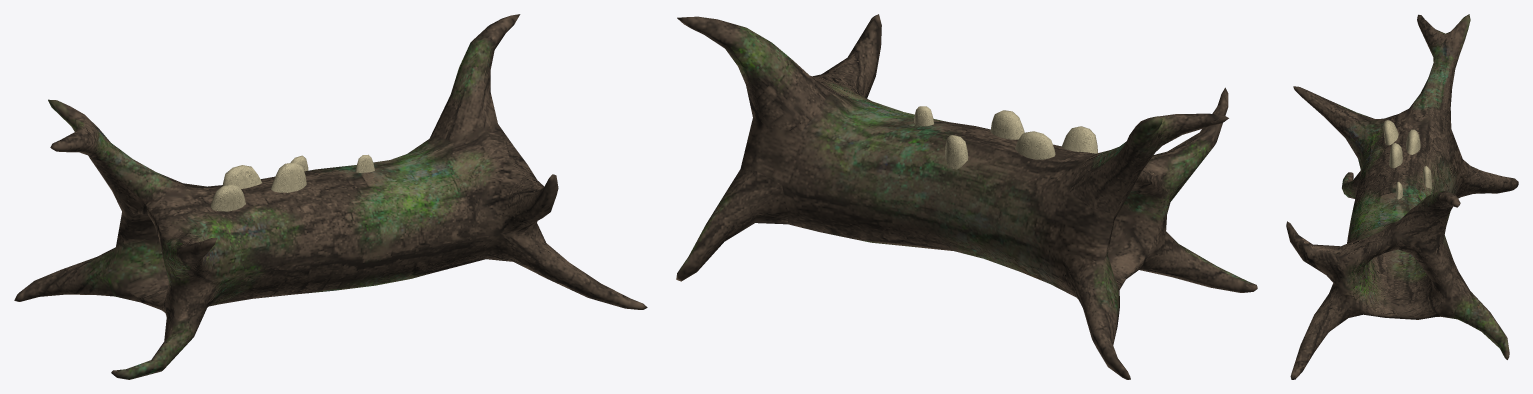
Rendered from Rotting Log - LOD 0.fbx.
3 views of the same model, side by side, from view 1: azimuth 30°, elevation 25°; view 2: azimuth 150°, elevation 25°; view 3: azimuth 270°, elevation 25° (orthographic). The views are drawn at different scales.
Parts seen in each view (by area): view 1: Rotting Log - LOD 0; view 2: Rotting Log - LOD 0; view 3: Rotting Log - LOD 0.
Part boxes in pixels (left/top/right/bottom): Rotting Log - LOD 0: left=14, top=14, right=647, bottom=379; Rotting Log - LOD 0: left=676, top=14, right=1257, bottom=379; Rotting Log - LOD 0: left=1286, top=14, right=1518, bottom=379.
Bounding box in the file's own units: 4.25 × 1.92 × 2.17.
